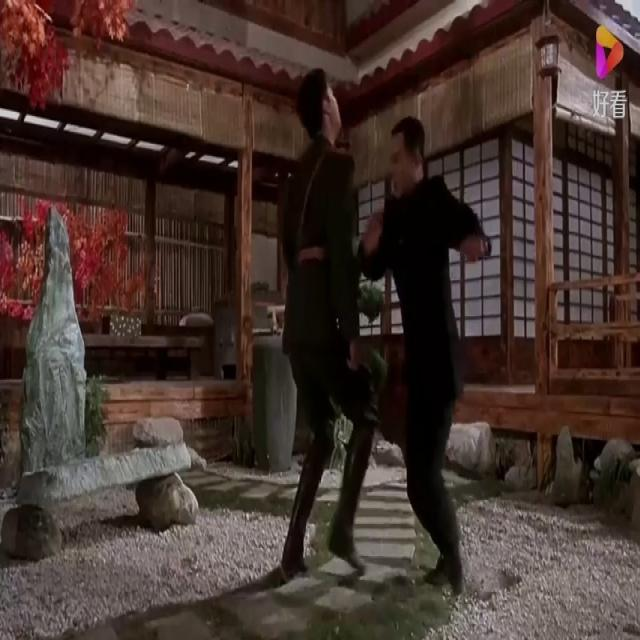fight: (274, 53, 499, 612)
